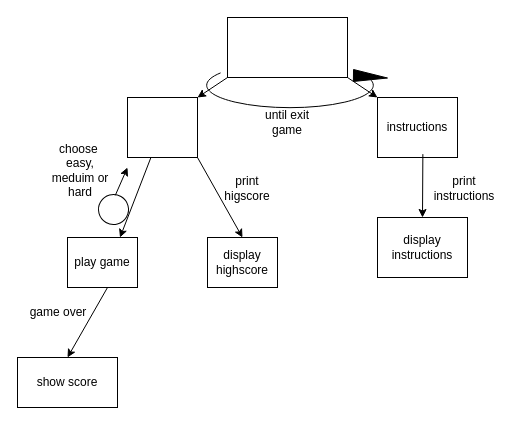
Image size: 512x425. Some labels were removed from this diagram. Here are the shapes that lost their labels. From the top down, the centre of each, then its label:
At point 287,47: "main menu".
At point 162,127: "choose difficulty".
